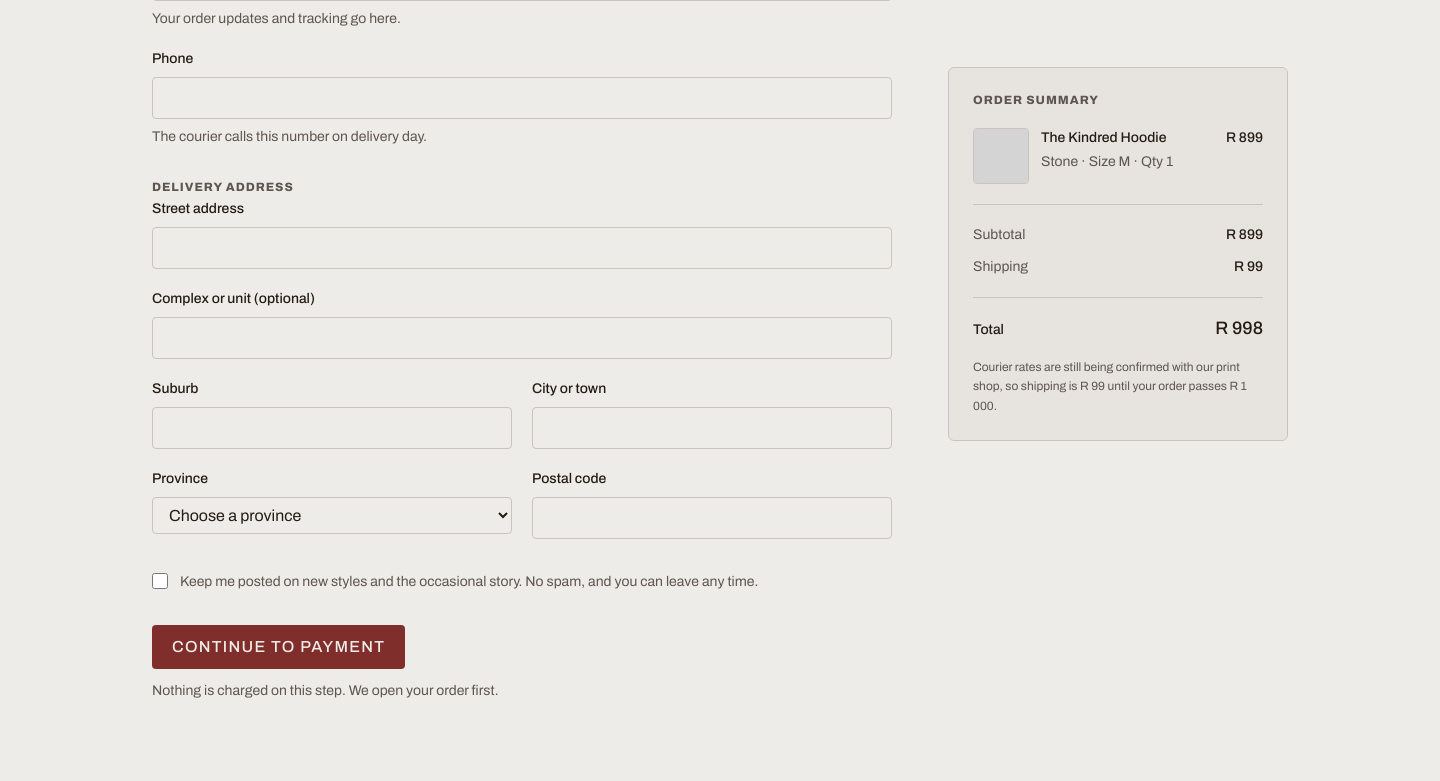
Scenario: CheckoutForm › shows an inline error under each empty field and does not post
The image size is (1440, 781).
(page scrolled)
Click the button "Continue to payment". click: (279, 647)
box: [152,625,405,669]
(page scrolled)
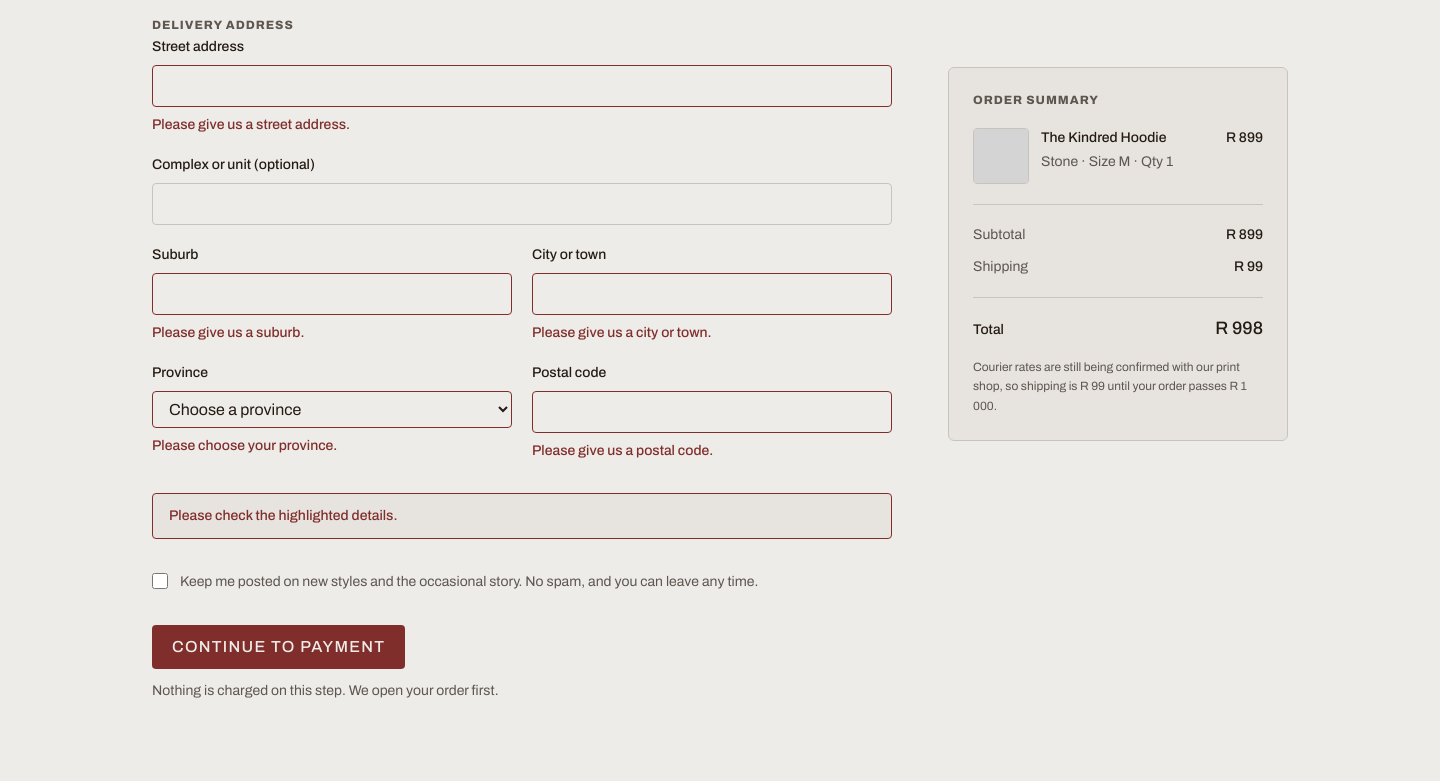
Expected: the text "Please choose your province." is shown, [152,438,337,453]
